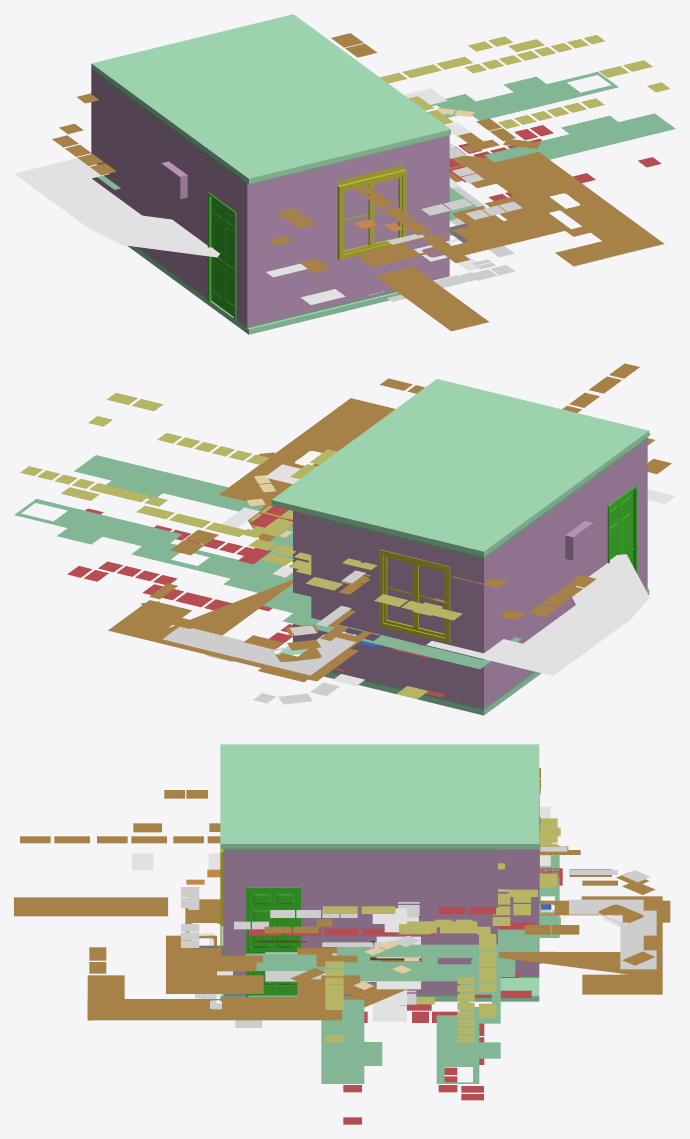
Rendered from FloorPlan14_physics.fbx.
The picture shows the model from 3 angles, top to bottom: view 1: azimuth 30°, elevation 25°; view 2: azimuth 150°, elevation 25°; view 3: azimuth 270°, elevation 25°; orthographic projection. The views are drawn at different scales.
Visible parts, largest first — view 1: StandardWallSize, Ceiling, FP16:PS_16_Countertop_1, FP13:PS_13_Countertop_1, FP9:PS_9_Countertop_1, FP13:PS_13_Countertop_3, FP9:PS_9_Countertop_2, FP15:PS_15_Countertop_2, Window (2), WindowPane2, StandardDoor1 (2), FP27:PS_27_Countertop_1 (+5 smaller); view 2: Ceiling, StandardWallSize, FP16:PS_16_Countertop_1, FP19:PS_19_Countertop_2, FP13:PS_13_Countertop_1, FP9:PS_9_Countertop_1, FP28:PS_28_Countertop_2, WindowPane1, FP9:PS_9_Countertop_2, Window, FP8:PS_8_Countertop_2, StandardDoor1 (2) (+9 smaller); view 3: Ceiling, StandardWallSize, FP13:PS_13_Countertop_1, FP19:PS_19_Countertop_2, StandardDoor1, FP13:PS_13_Countertop_3, FP9:PS_9_Countertop_1, FP15:PS_15_Countertop_2, FP28:PS_28_Countertop_2, FP9:PS_9_Countertop_2, FP8:PS_8_Countertop_2, FP27:PS_27_Countertop_1 (+9 smaller).
Part boxes in pixels (x1,y1,x2,y2): StandardWallSize: (91, 69, 449, 328); Ceiling: (91, 14, 450, 183); FP16:PS_16_Countertop_1: (14, 158, 219, 257); FP13:PS_13_Countertop_1: (470, 152, 664, 266); FP9:PS_9_Countertop_1: (484, 113, 675, 162); FP13:PS_13_Countertop_3: (375, 266, 488, 331); FP9:PS_9_Countertop_2: (459, 71, 618, 120); FP15:PS_15_Countertop_2: (439, 194, 570, 255); Window (2): (337, 165, 406, 259); WindowPane2: (344, 178, 398, 250); StandardDoor1 (2): (211, 198, 233, 316); FP27:PS_27_Countertop_1: (355, 206, 517, 267); Ceiling: (271, 379, 649, 557); StandardWallSize: (293, 437, 647, 709); FP16:PS_16_Countertop_1: (426, 554, 649, 675); FP19:PS_19_Countertop_2: (108, 579, 358, 681); FP13:PS_13_Countertop_1: (219, 398, 395, 506); FP9:PS_9_Countertop_1: (74, 455, 264, 511); FP28:PS_28_Countertop_2: (162, 626, 355, 675); WindowPane1: (387, 557, 444, 633); FP9:PS_9_Countertop_2: (14, 499, 181, 550); Window: (379, 549, 450, 643); FP8:PS_8_Countertop_2: (131, 525, 292, 584); StandardDoor1 (2): (610, 491, 633, 565); Ceiling: (220, 744, 539, 849); StandardWallSize: (223, 848, 539, 996); FP13:PS_13_Countertop_1: (87, 975, 341, 1020); FP19:PS_19_Countertop_2: (498, 896, 662, 994); StandardDoor1: (248, 890, 298, 995); FP13:PS_13_Countertop_3: (14, 897, 168, 916); FP9:PS_9_Countertop_1: (321, 999, 364, 1083); FP15:PS_15_Countertop_2: (166, 935, 263, 993); FP28:PS_28_Countertop_2: (569, 899, 656, 969); FP9:PS_9_Countertop_2: (436, 1015, 479, 1083); FP8:PS_8_Countertop_2: (343, 964, 500, 1023); FP27:PS_27_Countertop_1: (185, 899, 256, 971).
Bounding box in the file's own units: 1086 × 295 × 1122.
